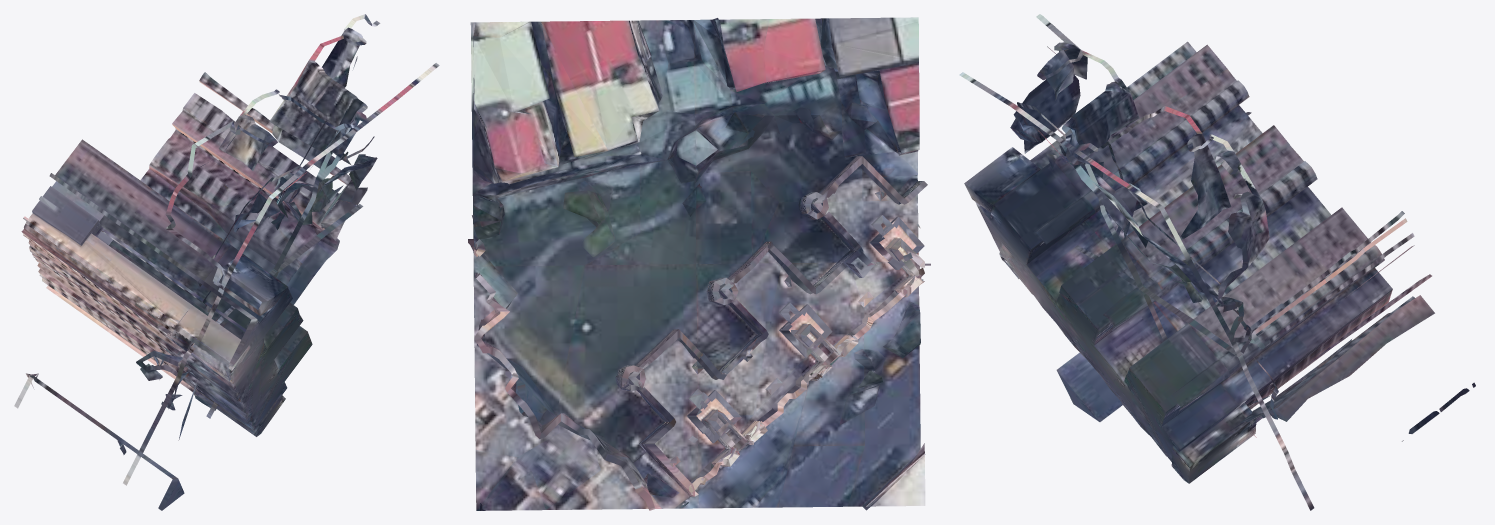
3 renders of one model, left to right at view 1: azimuth 30°, elevation 25°; view 2: azimuth 150°, elevation 25°; view 3: azimuth 270°, elevation 25°, orthographic. The views are drawn at different scales.
Bounding box in the file's own units: 88.8 × 80.73 × 95.59.
Materials: 1 (1 with a texture image).
